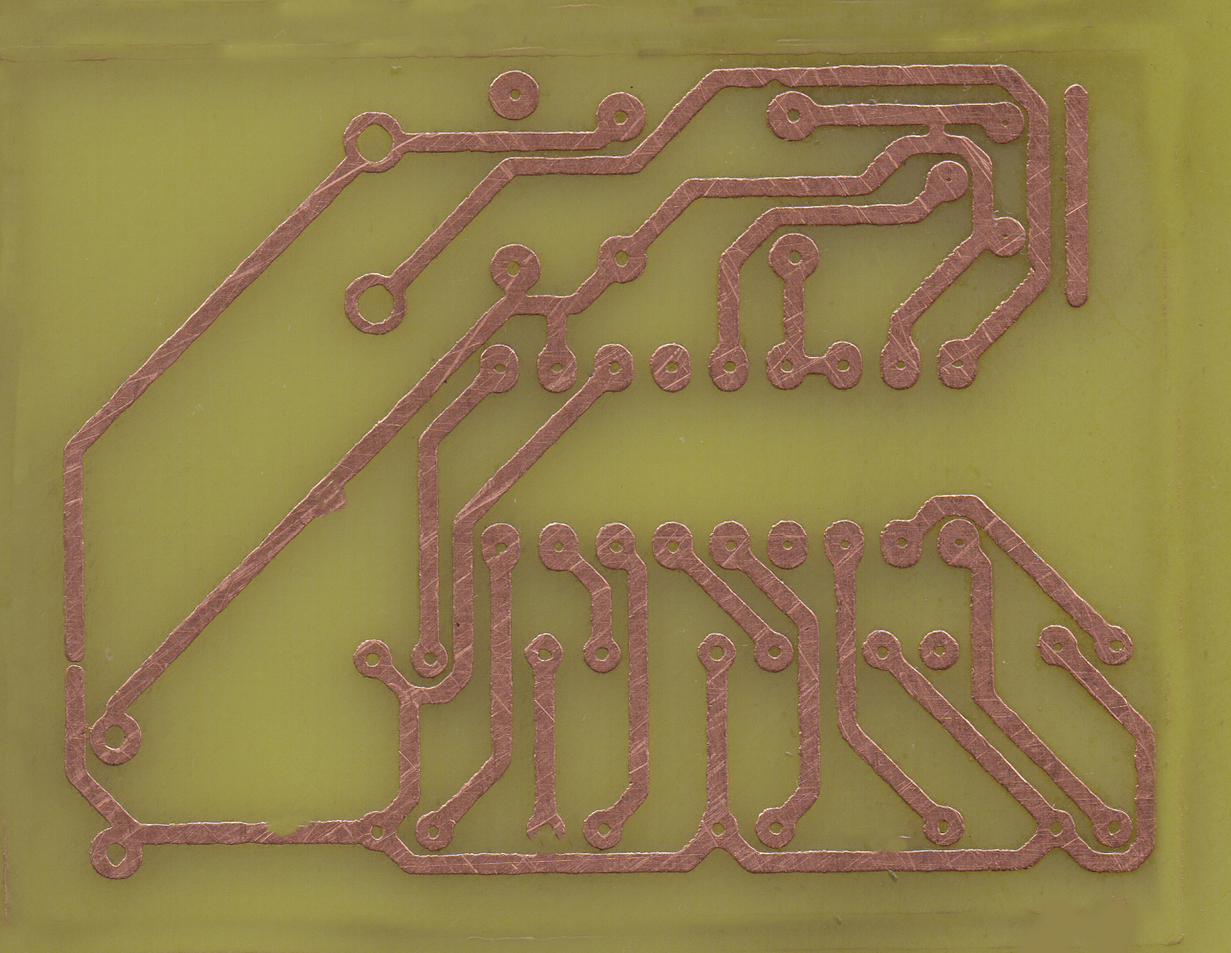missing_hole: (523, 807, 567, 847)
mouse_bite: (254, 815, 316, 844), (754, 70, 796, 94)
open_circuit: (64, 644, 88, 681)
short: (919, 103, 956, 154), (82, 719, 97, 743)
spur: (311, 479, 352, 518)
spurious_copper: (1057, 75, 1098, 316)
